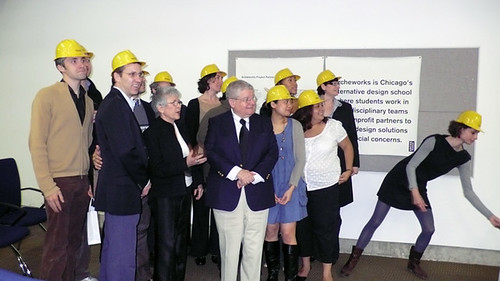person hardhat: (349, 109, 500, 281), (27, 39, 101, 281), (291, 90, 351, 281), (101, 50, 149, 278), (263, 85, 302, 279), (315, 72, 359, 234), (189, 57, 224, 139), (78, 41, 107, 120), (132, 66, 153, 136), (275, 64, 302, 118), (146, 67, 177, 107), (212, 75, 240, 113)
